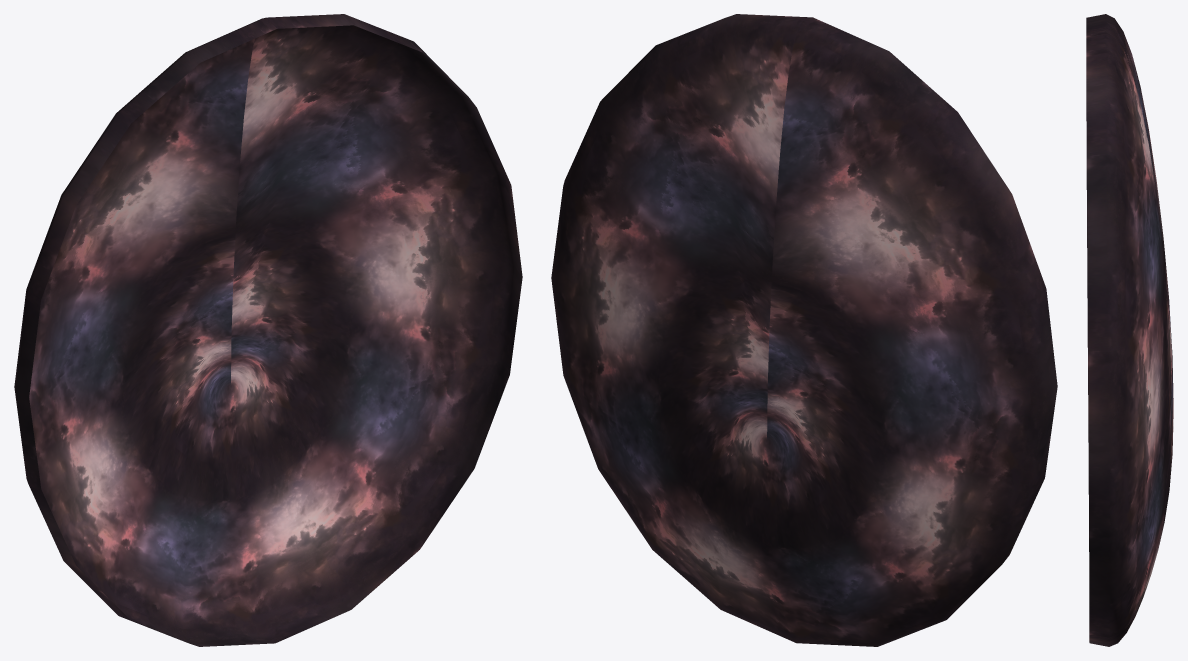
File: sky00_set.dae
3 renders of one model, left to right at view 1: azimuth 30°, elevation 25°; view 2: azimuth 150°, elevation 25°; view 3: azimuth 270°, elevation 25°, orthographic. The views are drawn at different scales.
Visible parts, largest first — view 1: sky_0Shape2; view 2: sky_0Shape2; view 3: sky_0Shape2.
Boxes of the visible parts, <box> form: sky_0Shape2: <box>14,14,522,646</box>; sky_0Shape2: <box>551,14,1057,646</box>; sky_0Shape2: <box>1086,14,1173,646</box>.
Bounding box in the file's own units: 39315 × 6296 × 46880.
Materials: 1 (1 with a texture image).
